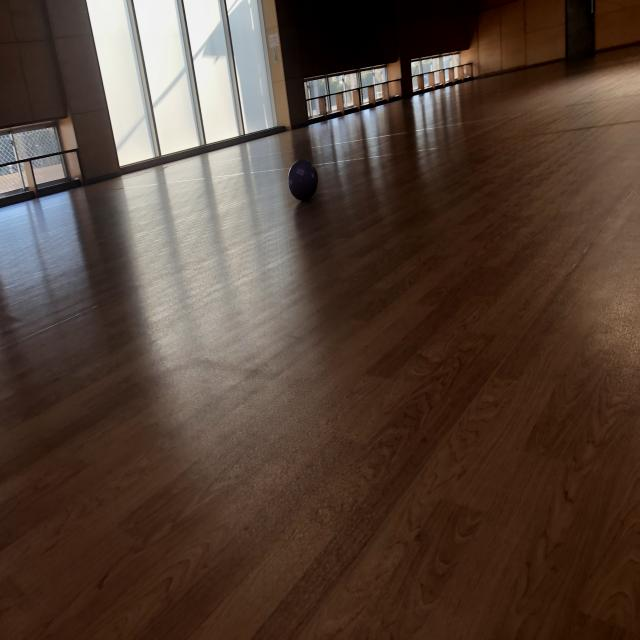purple_ball: (290, 158, 318, 204)
